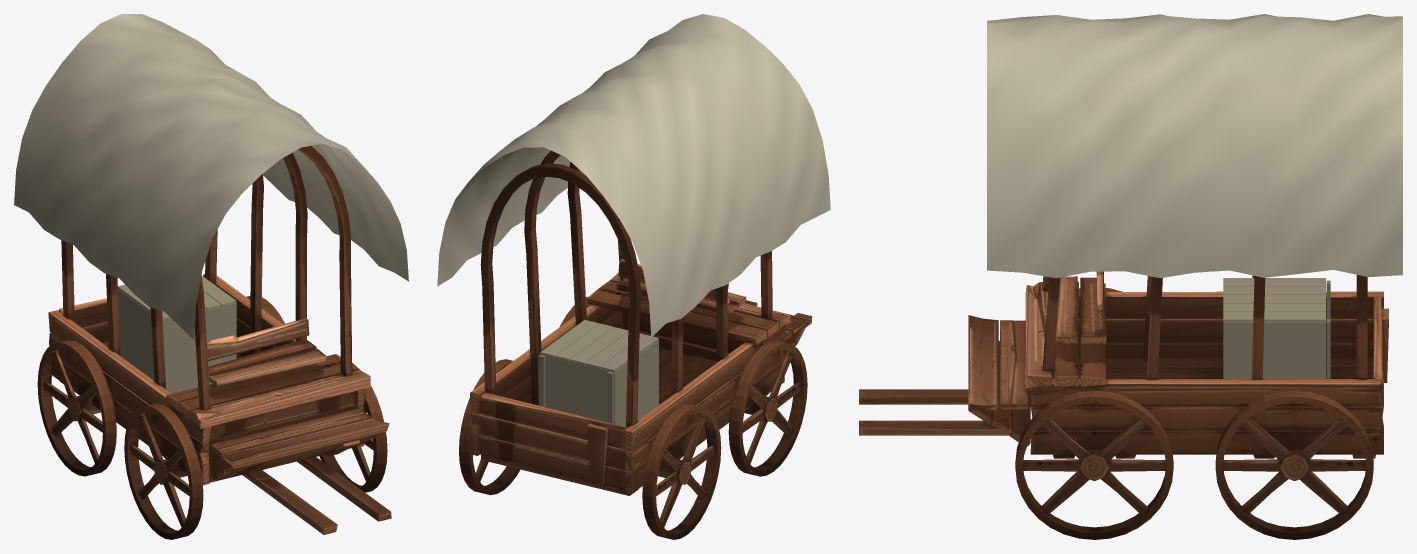
Rendered from astra_t04.glb.
3 renders of one model, left to right at view 1: azimuth 30°, elevation 25°; view 2: azimuth 150°, elevation 25°; view 3: azimuth 270°, elevation 25°, orthographic. The views are drawn at different scales.
Visible parts, largest first — view 1: replacement_canopy, slot_anchor_frame, slot_front_wheels, cargo_crate; view 2: replacement_canopy, slot_anchor_frame, slot_front_wheels, cargo_crate, wood_plank_3, wood_plank_2, wood_plank_4, wood_plank_0, wood_plank_1; view 3: replacement_canopy, slot_anchor_frame, slot_front_wheels, cargo_crate, wood_plank_4, wood_plank_2, wood_plank_3, wood_plank_0, wood_plank_1.
Part boxes in pixels (x1,y1,x2,y2): replacement_canopy: [14, 14, 408, 339]; slot_anchor_frame: [37, 146, 391, 534]; slot_front_wheels: [124, 363, 387, 539]; cargo_crate: [118, 289, 236, 393]; replacement_canopy: [437, 14, 830, 337]; slot_anchor_frame: [459, 150, 812, 539]; slot_front_wheels: [559, 296, 807, 476]; cargo_crate: [540, 340, 658, 426]; wood_plank_3: [555, 323, 613, 361]; wood_plank_2: [570, 327, 628, 365]; wood_plank_4: [540, 320, 598, 357]; wood_plank_0: [600, 334, 658, 372]; wood_plank_1: [585, 332, 643, 368]; replacement_canopy: [987, 14, 1402, 278]; slot_anchor_frame: [859, 271, 1388, 539]; slot_front_wheels: [1015, 288, 1173, 539]; cargo_crate: [1223, 322, 1325, 378]; wood_plank_4: [1223, 311, 1325, 322]; wood_plank_2: [1223, 294, 1325, 303]; wood_plank_3: [1223, 303, 1325, 311]; wood_plank_0: [1223, 278, 1325, 286]; wood_plank_1: [1223, 286, 1325, 294].
Bounding box in the file's own units: 1.06 × 1.89 × 2.01.
Materials: 10 (1 with a texture image).
